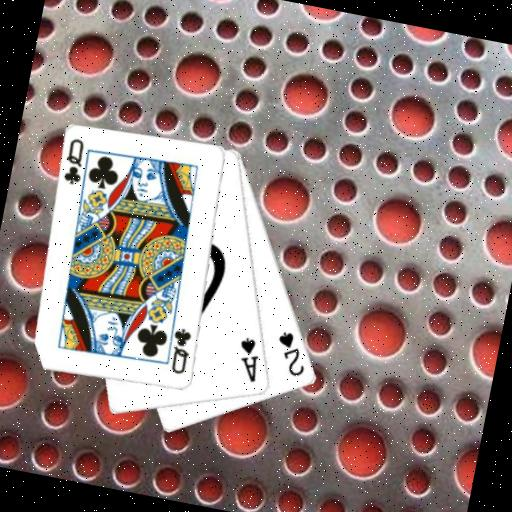2S: (269, 327, 314, 380)
AS: (230, 334, 265, 386)
QC: (165, 324, 196, 377), (60, 135, 91, 188)
